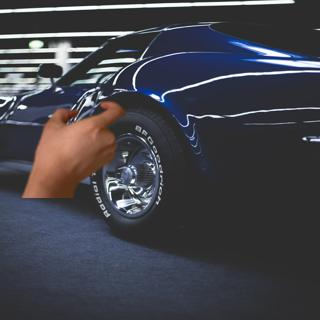HATE: (20, 93, 130, 186)
